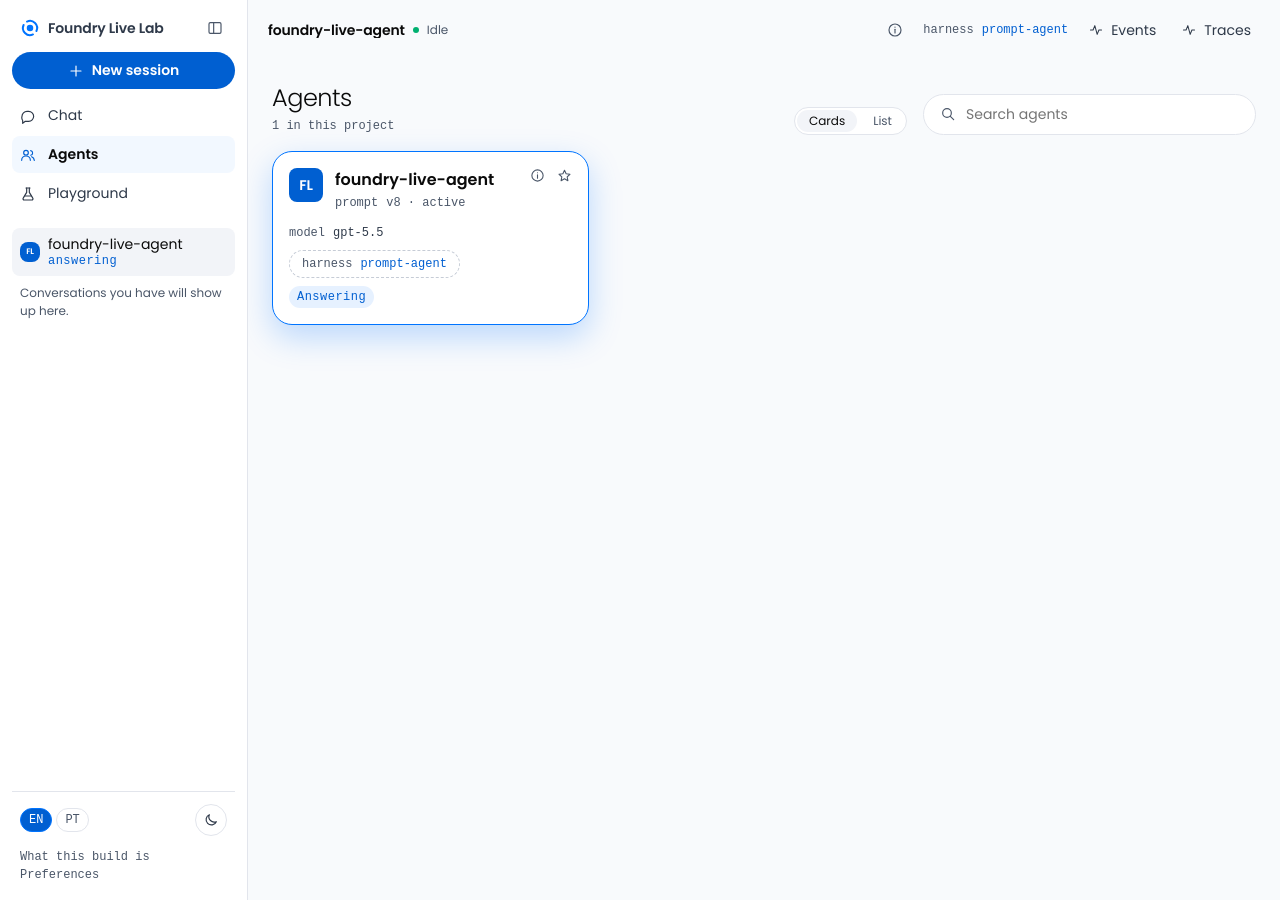
Test: inspecting an agent › is reached from the card, without the card losing its own action (AC1)
What coordinates should you click on to do the following:
click the button named "Inspect this agent: foundry-live-agent"
I would click on:
 (538, 175)
Its box is [526, 164, 549, 187].
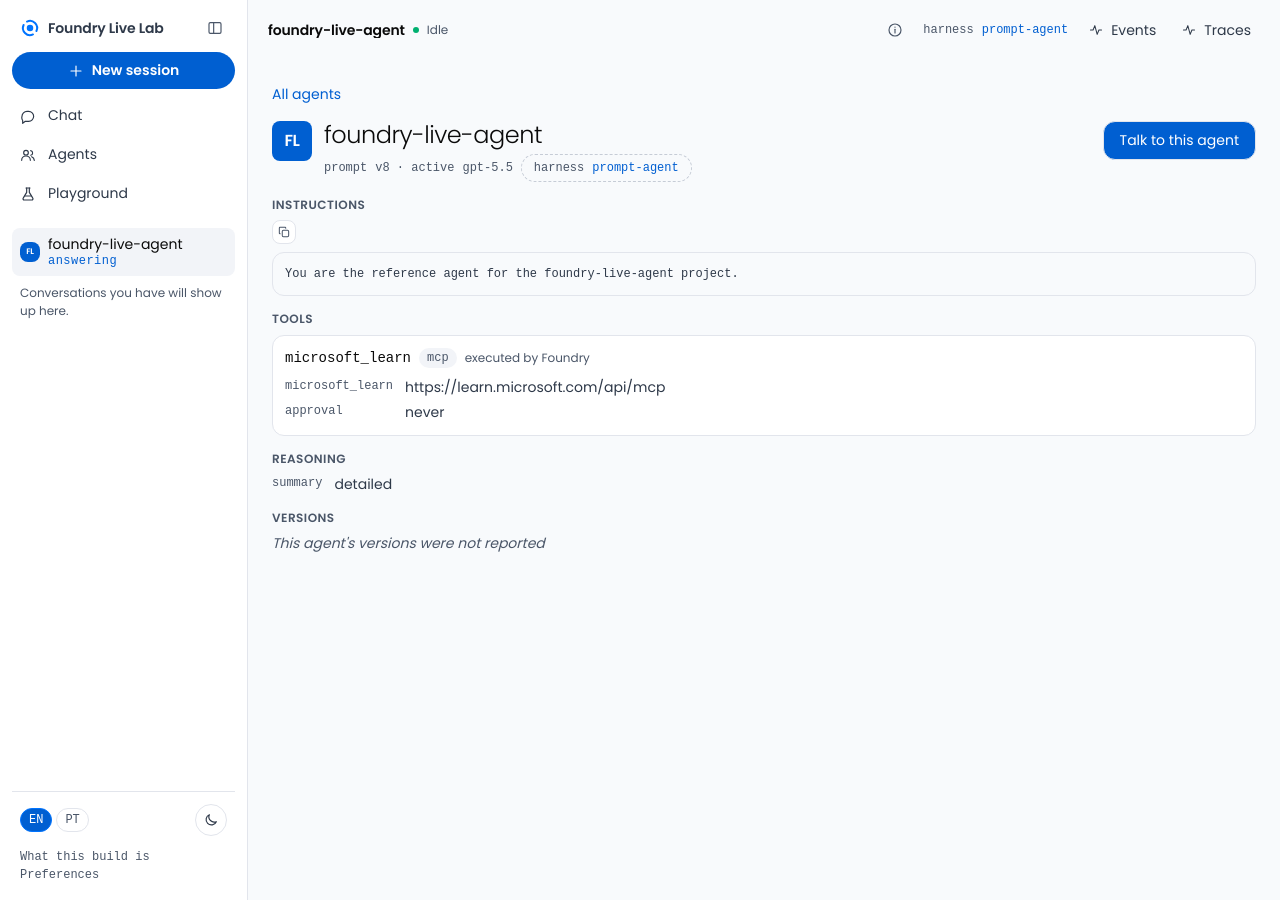
Expected: the text "You are the reference agent" is shown, [285, 267, 739, 281]
